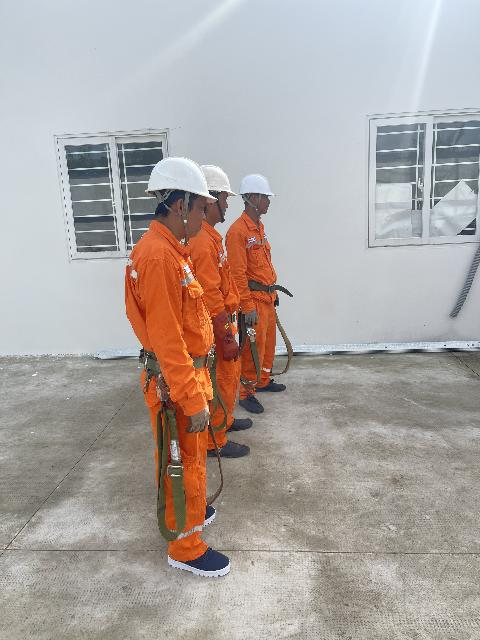gloves: (208, 318, 249, 363), (179, 400, 217, 437), (244, 307, 262, 325)
harness: (131, 337, 215, 384), (240, 275, 294, 300), (215, 307, 240, 327)
helmet: (143, 148, 213, 207), (189, 155, 235, 202), (218, 172, 283, 197)
shoes: (159, 535, 235, 584), (168, 502, 228, 529), (190, 439, 261, 461), (234, 394, 275, 416), (219, 413, 263, 433), (251, 378, 292, 394)
